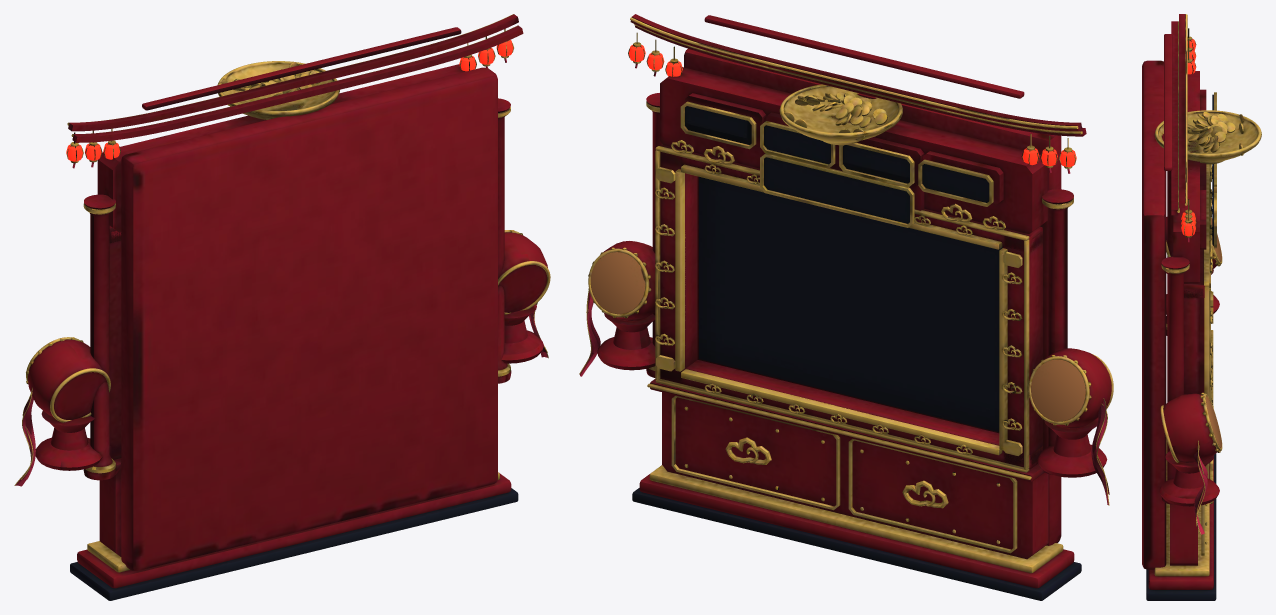
3 renders of one model, left to right at view 1: azimuth 30°, elevation 25°; view 2: azimuth 150°, elevation 25°; view 3: azimuth 270°, elevation 25°, orthographic. The views are drawn at different scales.
Parts seen in each view (by area): view 1: Vermilion_lacquer, Imperial_gold, Flat_dark_inset, Lantern_red_glow, Crimson_silk; view 2: Vermilion_lacquer, Flat_dark_inset, Imperial_gold, Golden_drum_hide, Lantern_red_glow, Crimson_silk; view 3: Vermilion_lacquer, Imperial_gold, Flat_dark_inset, Lantern_red_glow, Golden_drum_hide, Crimson_silk.
Boxes of the visible parts, x1,y1,x2,y2 form: Vermilion_lacquer: (28, 14, 547, 588); Imperial_gold: (14, 14, 550, 572); Flat_dark_inset: (70, 488, 518, 600); Lantern_red_glow: (66, 40, 513, 161); Crimson_silk: (15, 58, 547, 486); Vermilion_lacquer: (597, 14, 1111, 588); Flat_dark_inset: (632, 106, 1081, 600); Imperial_gold: (579, 17, 1113, 573); Golden_drum_hide: (590, 252, 1085, 421); Lantern_red_glow: (629, 45, 1076, 167); Crimson_silk: (579, 63, 1108, 504); Vermilion_lacquer: (1142, 14, 1219, 589); Imperial_gold: (1154, 14, 1261, 576); Flat_dark_inset: (1146, 94, 1216, 600); Lantern_red_glow: (1181, 39, 1195, 236); Golden_drum_hide: (1205, 217, 1221, 447); Crimson_silk: (1187, 237, 1207, 534).
Bounding box in the file's own units: 11.44 × 9.8 × 2.57.
Materials: 6 (5 with a texture image).
